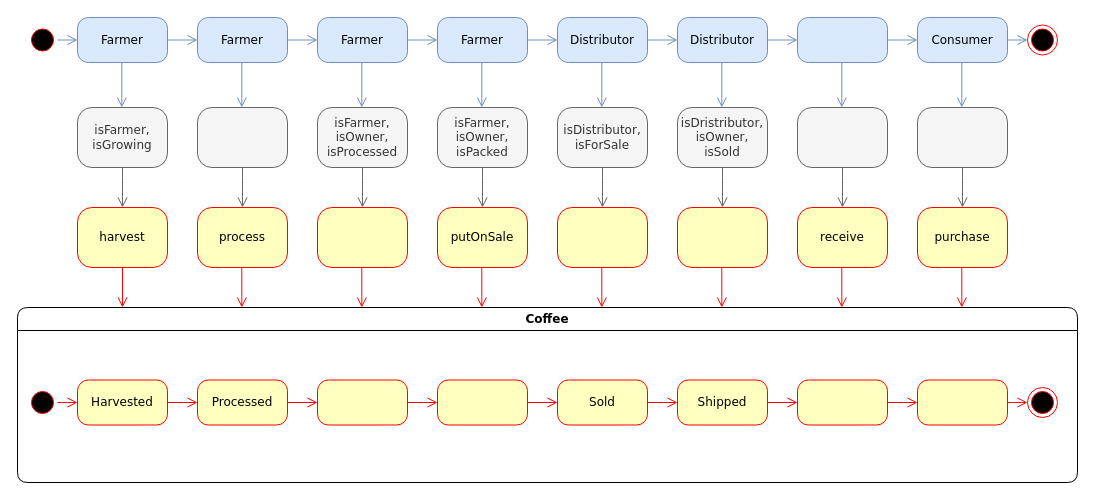
Image size: 1095x500. Some labels were removed from this diagram. Here are the shapes that lost their labels. From the top down, the centre of each, then its label:
At (x=842, y=39): "Retailer".
At (x=242, y=137): "isFarmer, isOwner, isHarvested".
At (x=842, y=137): "isRetailer, isShipped".
At (x=962, y=137): "isConsumer, isReceived".
At (x=362, y=237): "pack".
At (x=602, y=237): "buy".
At (x=722, y=237): "ship".
At (x=362, y=402): "Packed".
At (x=482, y=402): "For sale".
At (x=842, y=402): "Received".
At (x=962, y=402): "Purchased".
